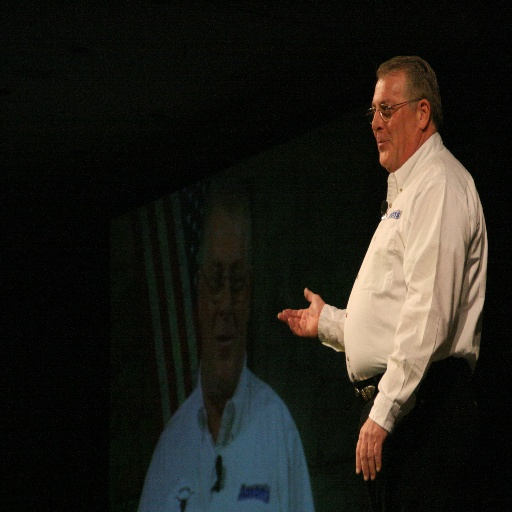hand: (354, 417, 388, 481), (273, 297, 325, 335)
